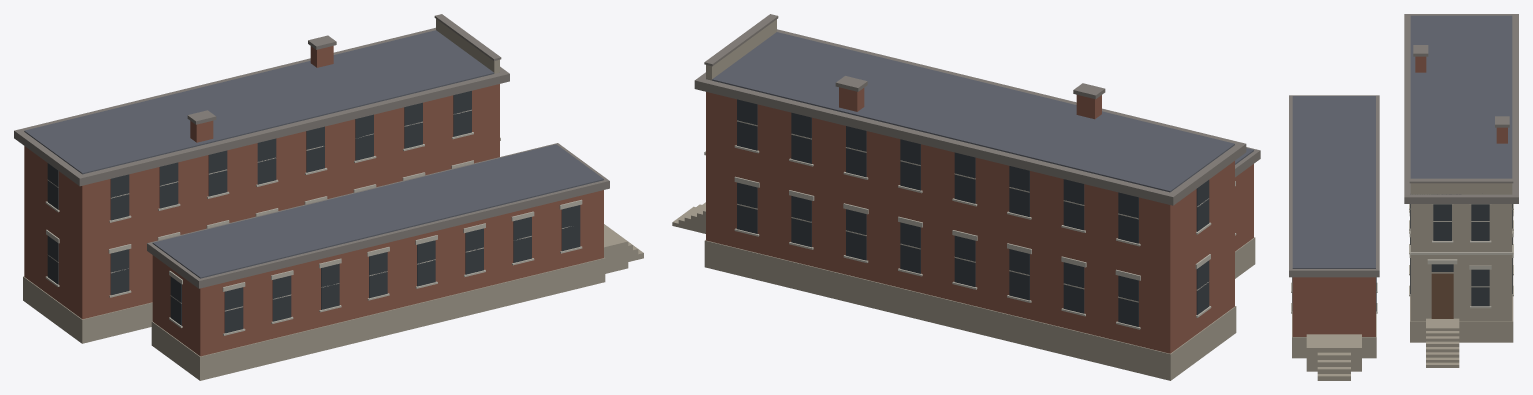
The model's file is house_1921_indiana__draft_1904.glb.
3 views of the same model, side by side, from view 1: azimuth 30°, elevation 25°; view 2: azimuth 150°, elevation 25°; view 3: azimuth 270°, elevation 25° (orthographic). The views are drawn at different scales.
Visible parts, largest first — view 1: house_1921_indiana__draft_1904; view 2: house_1921_indiana__draft_1904; view 3: house_1921_indiana__draft_1904.
Boxes of the visible parts, x1,y1,x2,y2 form: house_1921_indiana__draft_1904: (14,14,643,380); house_1921_indiana__draft_1904: (672,14,1260,380); house_1921_indiana__draft_1904: (1289,14,1518,380).
Size of the model in its own units: 28.05 by 10.04 by 12.42.
